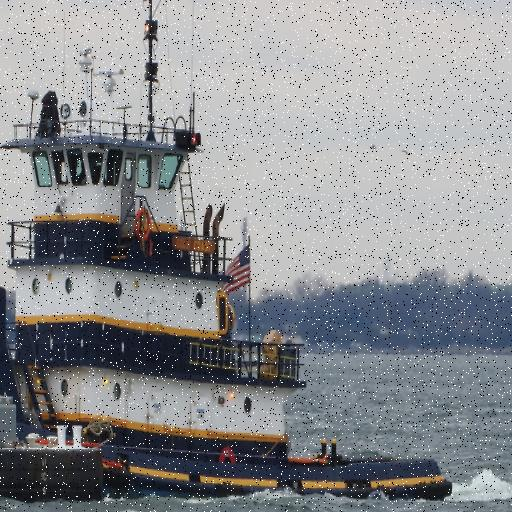tugboat: (1, 45, 459, 510)
